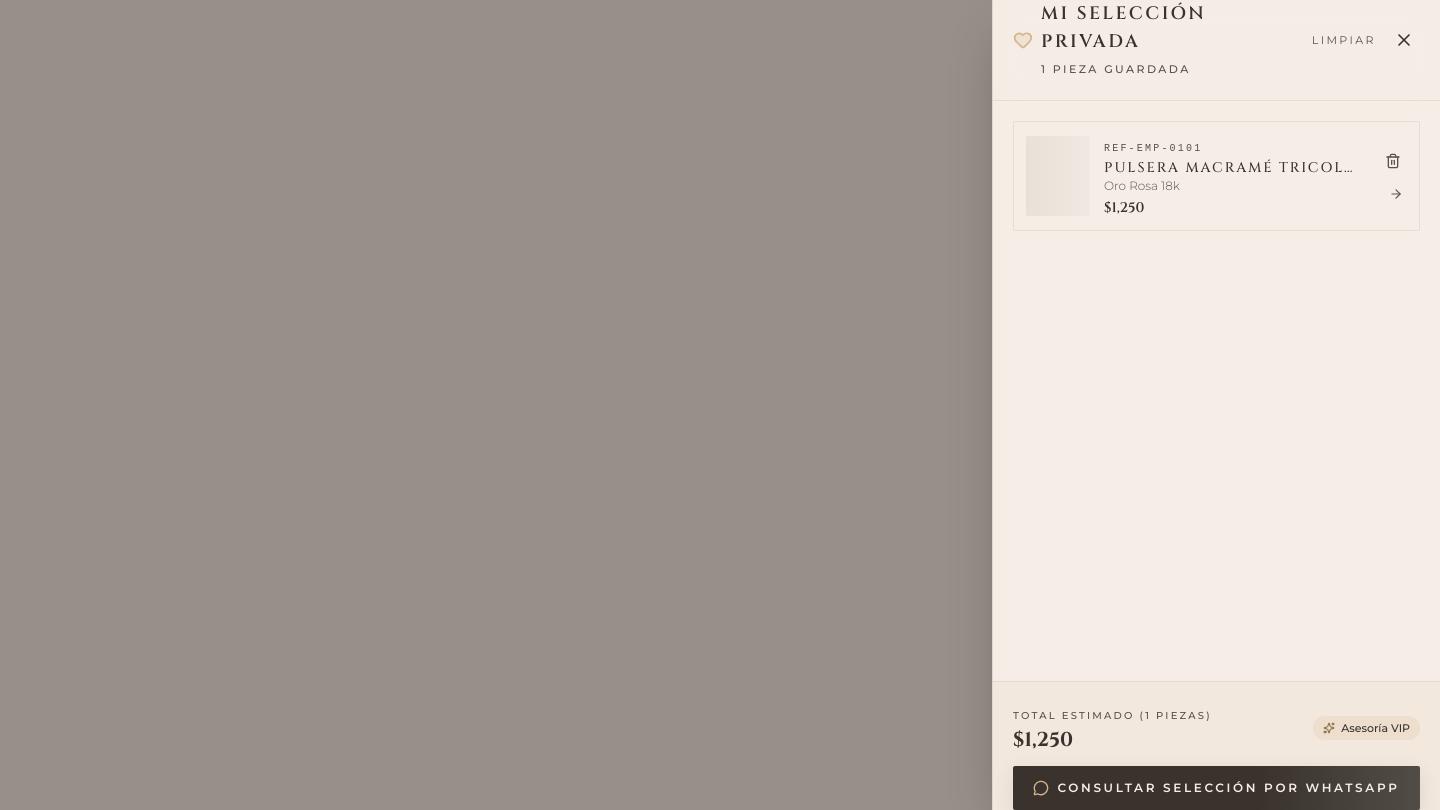
Test: Tier 1 - R4: Instant Search, Live Filters, Favorites & Bottom Nav › T1-R4-04: FavoritesDrawer displays favorited items and handles removal
Expected: the heading "Pulsera Macramé Tricolor" is shown, [1104,158,1365,178]
Click the button named "Eliminar Pulsera Macramé Tricolor de favoritos". click: (1393, 161)
box: [1379,147,1407,175]
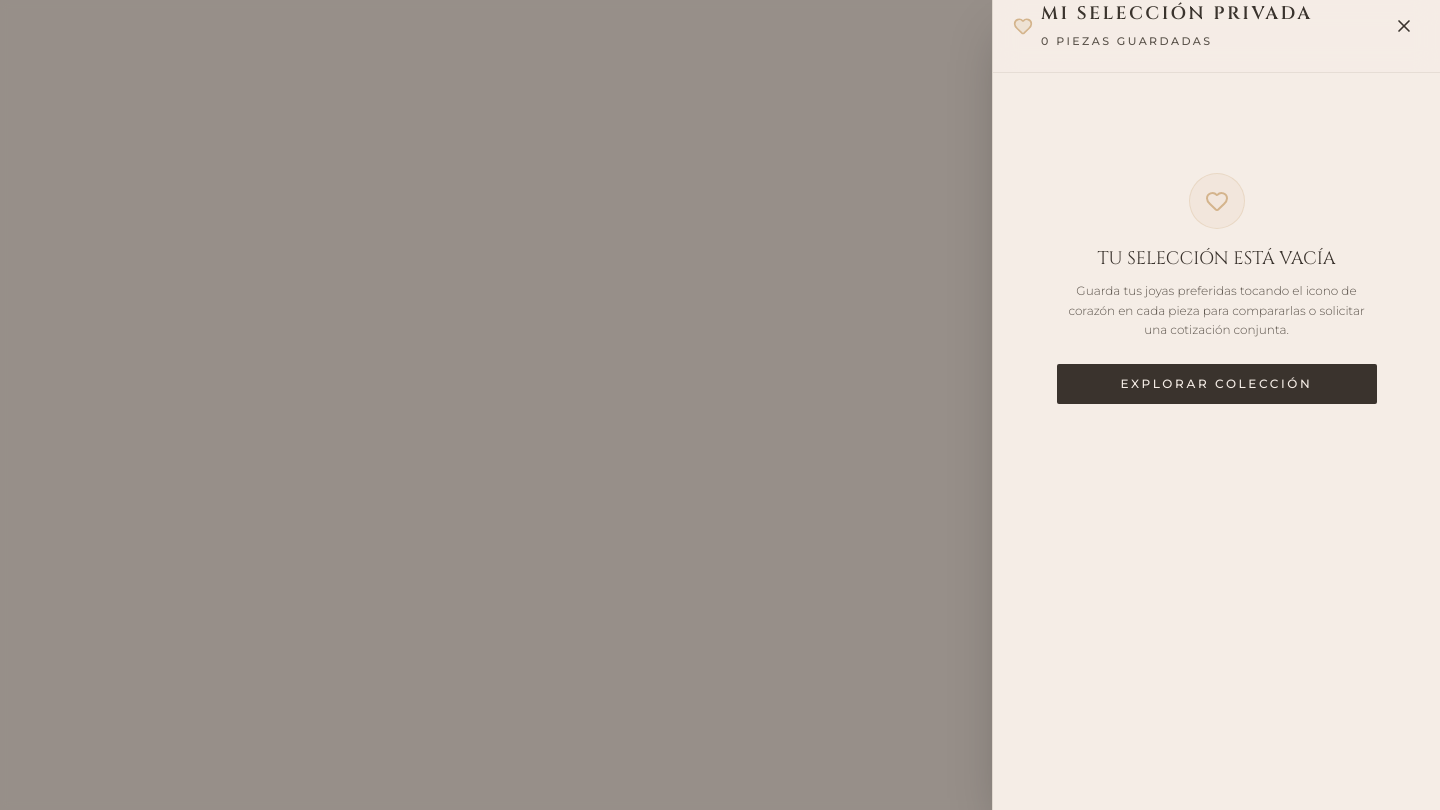
Expected: the heading "Pulsera Macramé Tricolor" is gone
Expected: the heading "Tu Selección está Vacía" is shown, [1097,246,1336,271]
